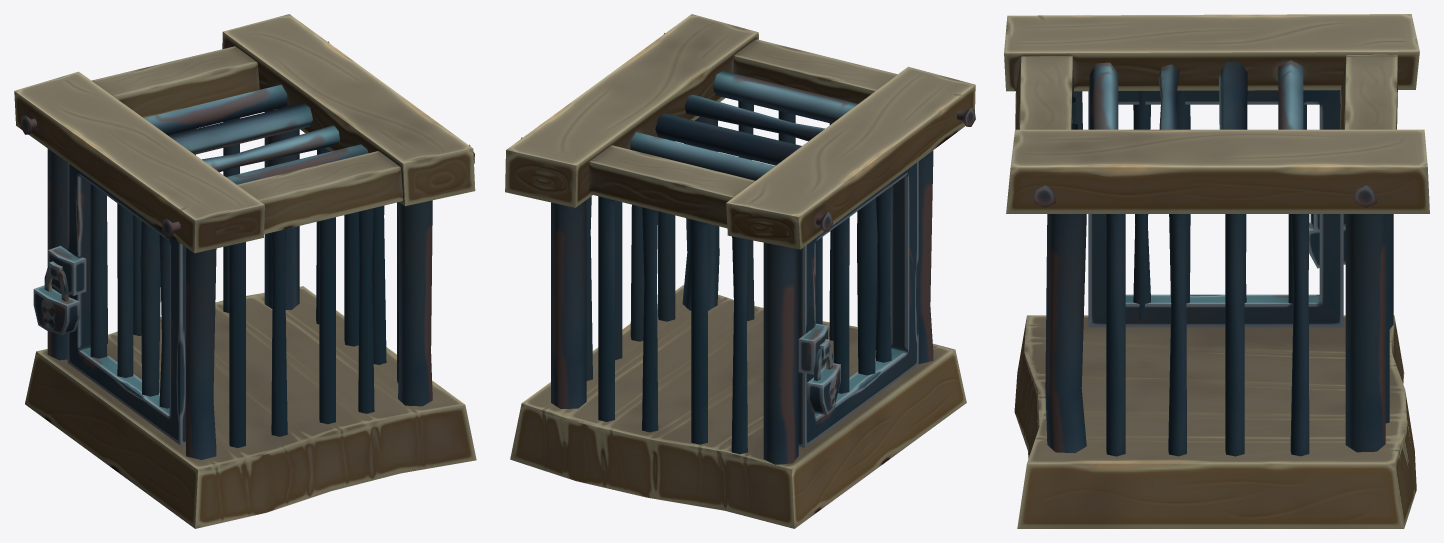
Rendered from SM_Cage_01.fbx.
3 renders of one model, left to right at view 1: azimuth 30°, elevation 25°; view 2: azimuth 150°, elevation 25°; view 3: azimuth 270°, elevation 25°, orthographic. The views are drawn at different scales.
Parts seen in each view (by area): view 1: SM_Cage_01_LOD0; view 2: SM_Cage_01_LOD0; view 3: SM_Cage_01_LOD0.
Boxes of the visible parts, x1=… form: SM_Cage_01_LOD0: x1=14, y1=14, x2=476, y2=528; SM_Cage_01_LOD0: x1=505, y1=14, x2=975, y2=528; SM_Cage_01_LOD0: x1=1004, y1=14, x2=1429, y2=528.
Bounding box in the file's own units: 52.46 × 56.11 × 52.05.
Materials: 1 (1 with a texture image).
